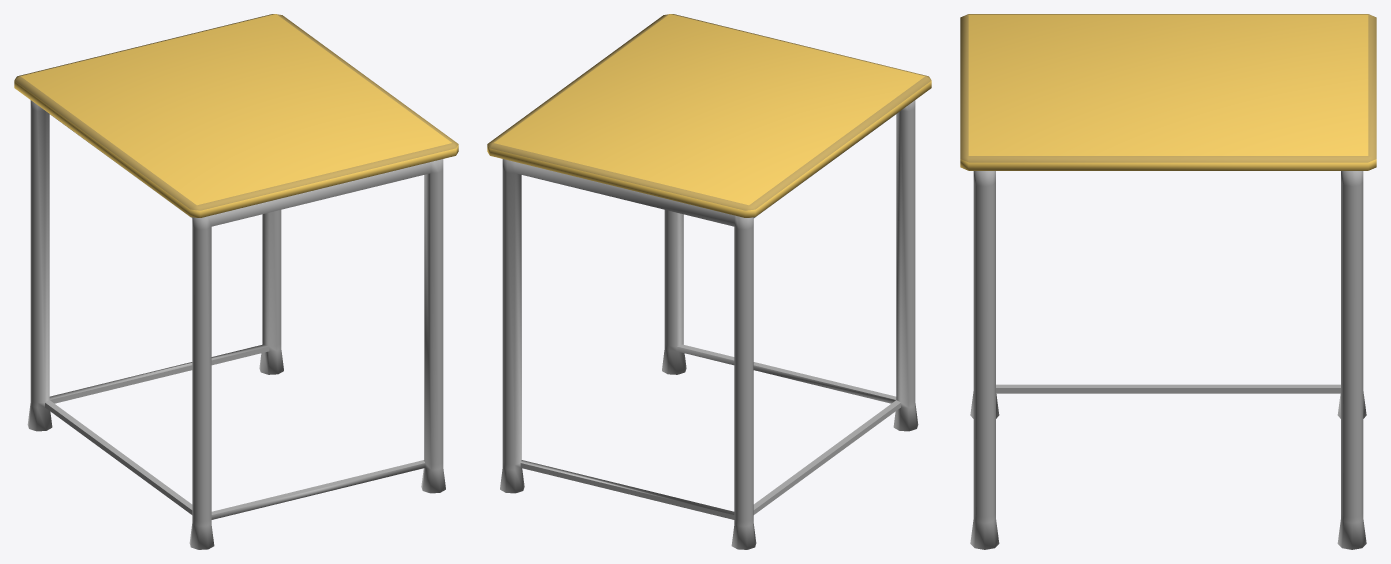
Rendered from desk.glb.
The picture shows the model from 3 angles, left to right: view 1: azimuth 30°, elevation 25°; view 2: azimuth 150°, elevation 25°; view 3: azimuth 270°, elevation 25°; orthographic projection. The views are drawn at different scales.
Visible parts, largest first — view 1: Cylinder; view 2: Cylinder; view 3: Cylinder.
Boxes of the visible parts, x1,y1,x2,y2 form: Cylinder: [14, 14, 458, 549]; Cylinder: [487, 14, 931, 549]; Cylinder: [960, 14, 1376, 549].
Size of the model in its own units: 1.76 by 2.18 by 2.09.
Materials: 1 (1 with a texture image).
